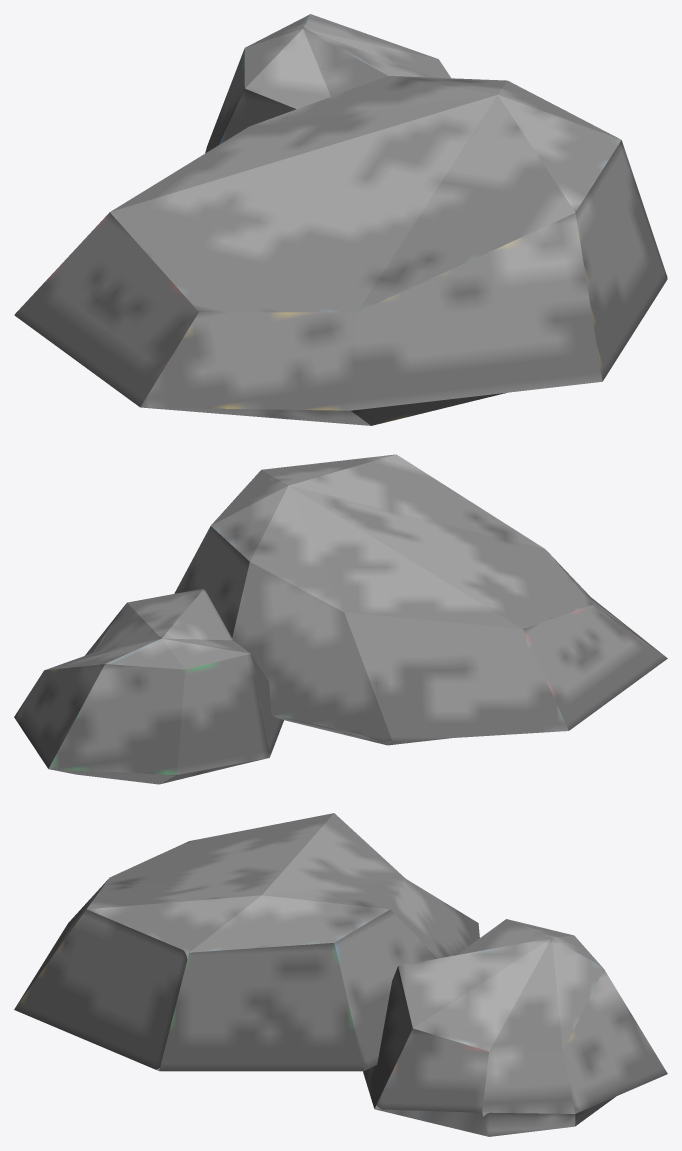
The model's file is stone2.obj.
3 views of the same model, one above another, from view 1: azimuth 30°, elevation 25°; view 2: azimuth 150°, elevation 25°; view 3: azimuth 270°, elevation 25° (orthographic). The views are drawn at different scales.
Visible parts, largest first — view 1: sphere; view 2: sphere; view 3: sphere.
Part boxes in pixels (left/top/right/bottom): sphere: left=14, top=14, right=667, bottom=425; sphere: left=14, top=454, right=667, bottom=784; sphere: left=14, top=813, right=667, bottom=1136.
Bounding box in the file's own units: 1.1 × 0.4688 × 1.32.
Materials: 1 (1 with a texture image).
